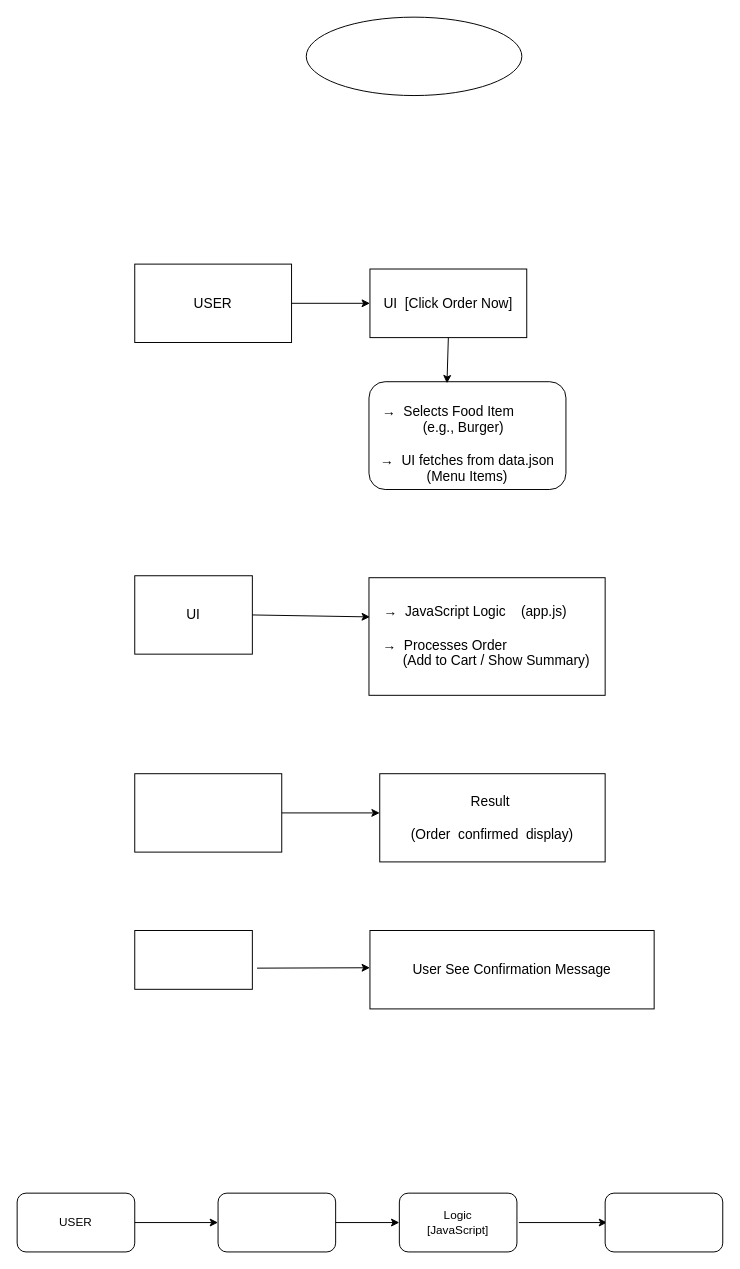
Image size: 740x1269. Some labels were removed from this diagram. Each missing label, with the box of its shape:
App.js: (134, 773, 282, 852)
OutPut [Confirmation/Result]: (604, 1192, 723, 1252)
Result: (134, 930, 252, 989)
Sequence Diagram: (305, 16, 522, 96)
UI [Frontend]: (217, 1192, 336, 1252)
